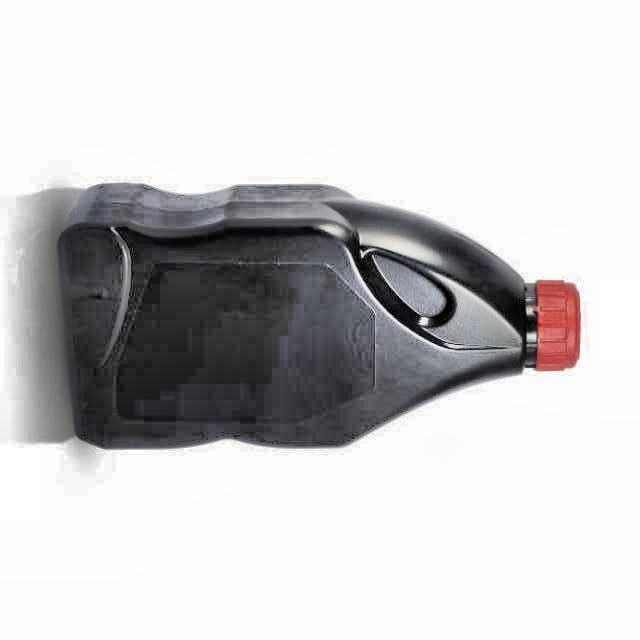plastic: (57, 184, 579, 447)
